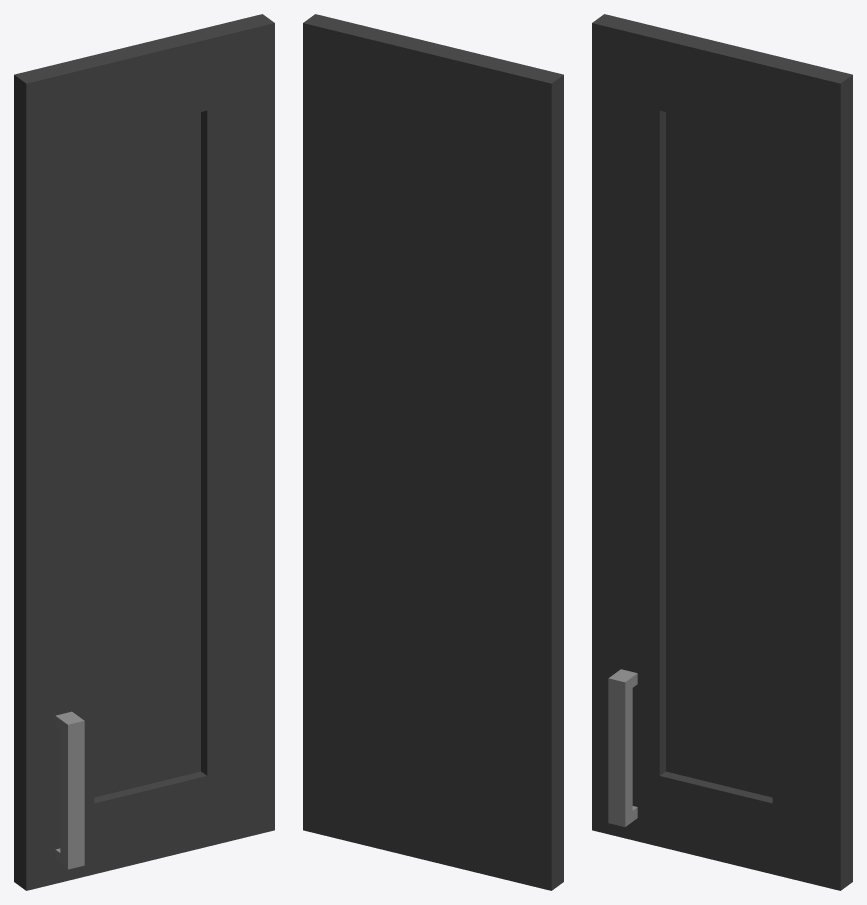
File: Door2_C3_13.fbx
The picture shows the model from 3 angles, left to right: view 1: azimuth 30°, elevation 25°; view 2: azimuth 150°, elevation 25°; view 3: azimuth 330°, elevation 25°; orthographic projection.
Visible parts, largest first — view 1: Door2_C3_13; view 2: Door2_C3_13; view 3: Door2_C3_13.
Part boxes in pixels (x1,y1,x2,y2): Door2_C3_13: (14,14,274,890); Door2_C3_13: (303,14,563,890); Door2_C3_13: (592,14,852,890).
Bounding box in the file's own units: 29 × 90 × 5.03.
